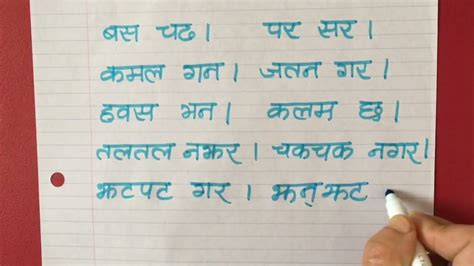text: (271, 140, 355, 162), (265, 98, 339, 122), (94, 141, 177, 161), (94, 180, 173, 201), (259, 59, 327, 83), (268, 179, 320, 208), (182, 140, 241, 165), (366, 139, 422, 165), (99, 62, 165, 84), (99, 101, 161, 123), (320, 178, 371, 204), (179, 61, 228, 83), (156, 19, 198, 44), (191, 180, 233, 205), (330, 58, 374, 81), (259, 19, 303, 41), (315, 18, 358, 39), (100, 22, 142, 43), (180, 99, 218, 122), (357, 98, 387, 122)
